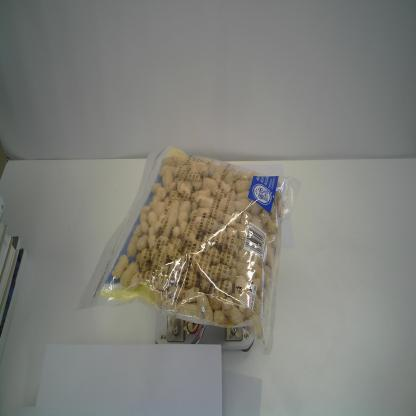Dried Food: (77, 139, 305, 348)
